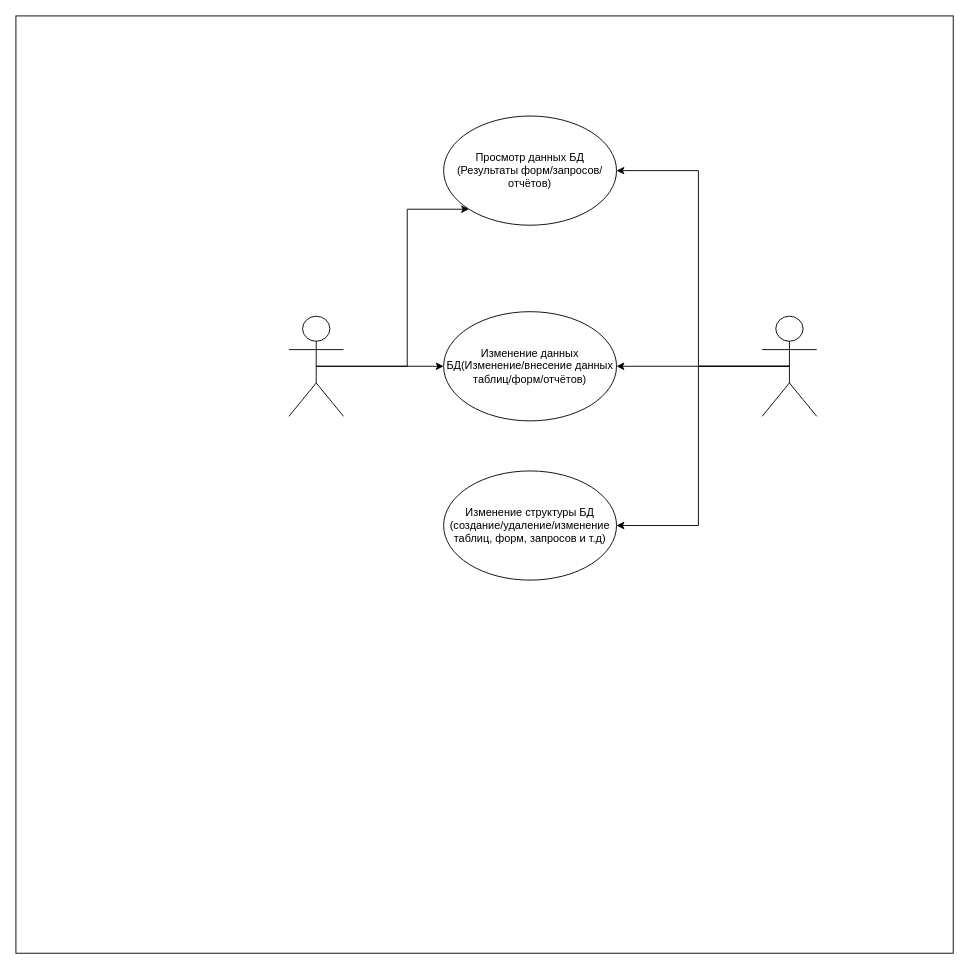
Image size: 969x969. Some labels were removed from this diagram. Here are the shapes that lost their labels. From the top down, the centre of each, then its label:
(316,365): Преподаватель
(789,365): Администратор/программист
